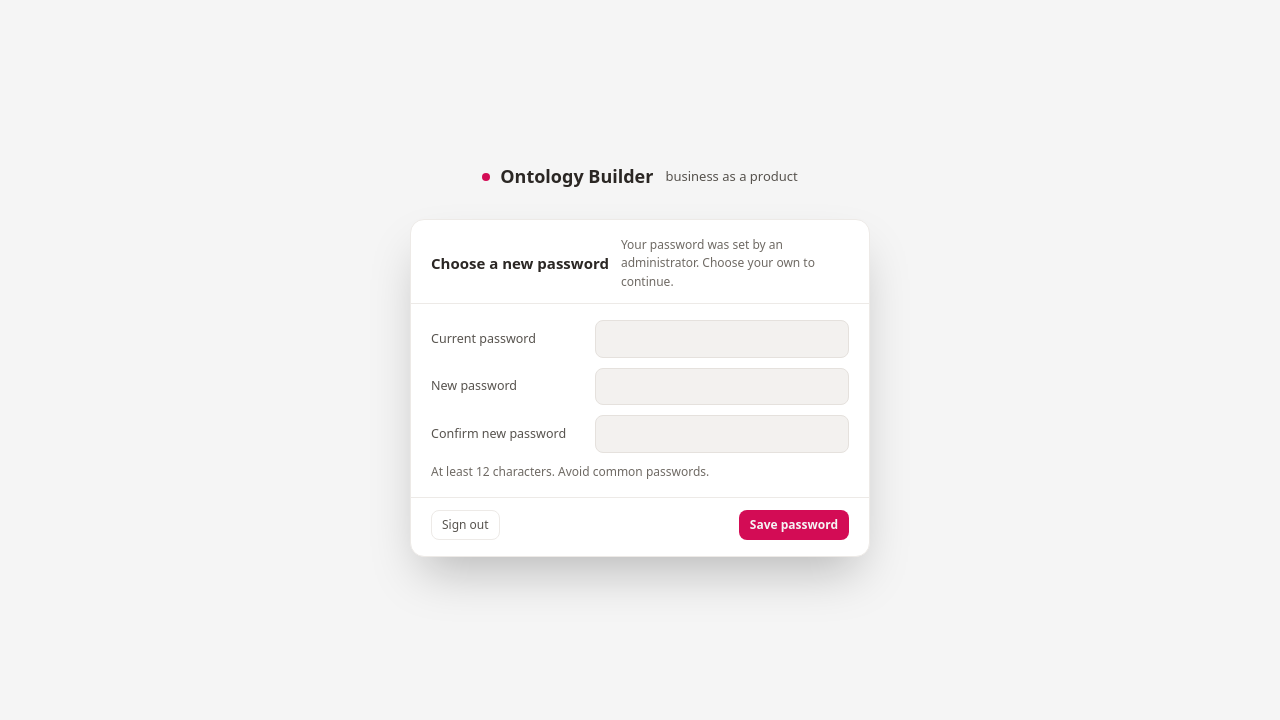
Test: Choose a new password › signs out to the sign-in page, which says so
Click the button "Sign out" at (465, 525), box [431, 510, 500, 540]
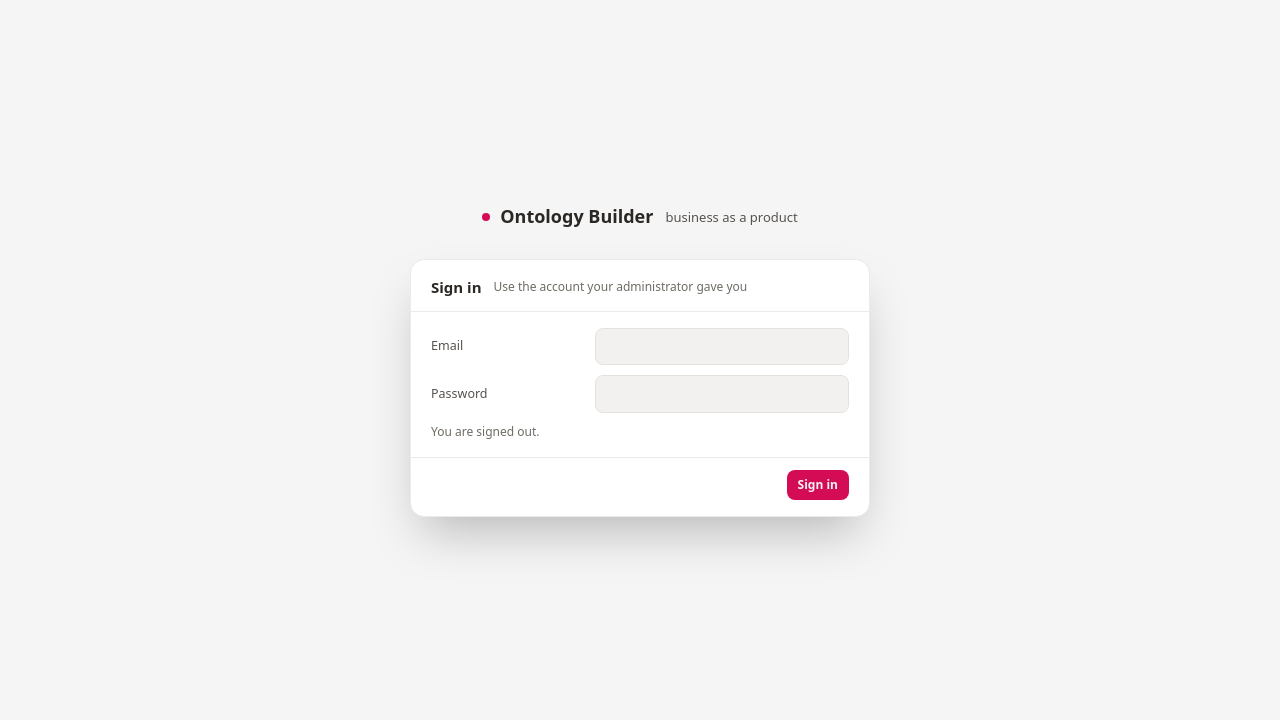
Expected: the text "Sign in" is shown, [431, 276, 482, 299]
Expected: the text with class "msg" reads "You are signed out.", [431, 423, 540, 440]
